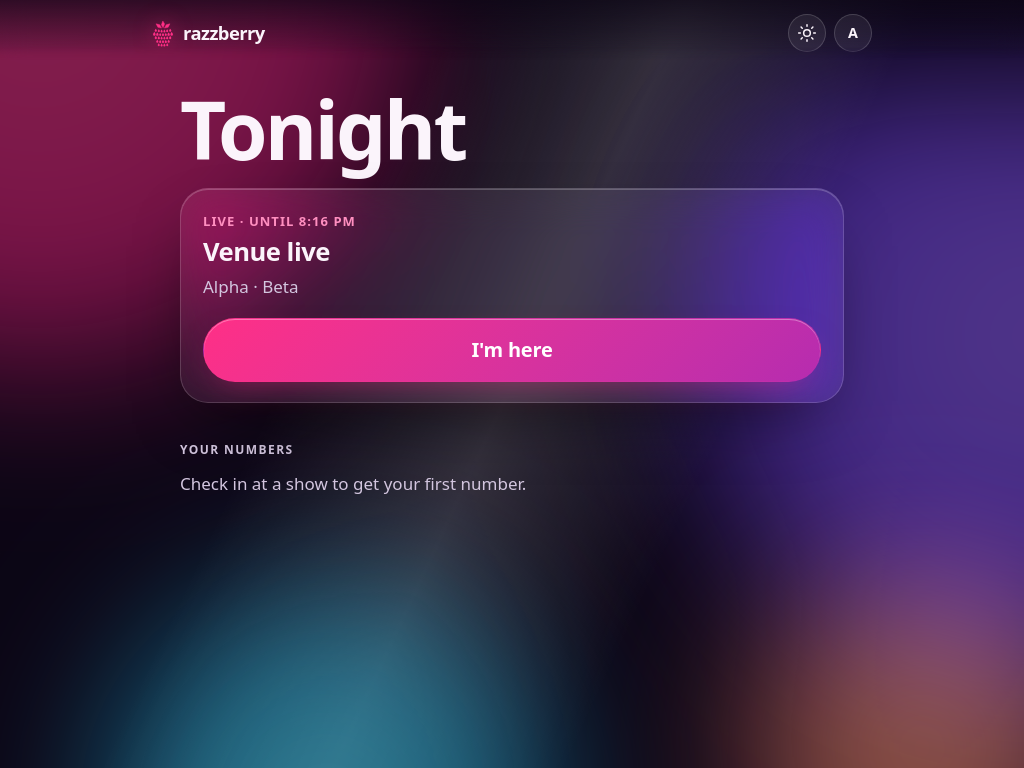
Test: check-in › shows a friendly line when the server says you're too far
Click the button "I'm here" at (512, 350), box [203,318,821,382]
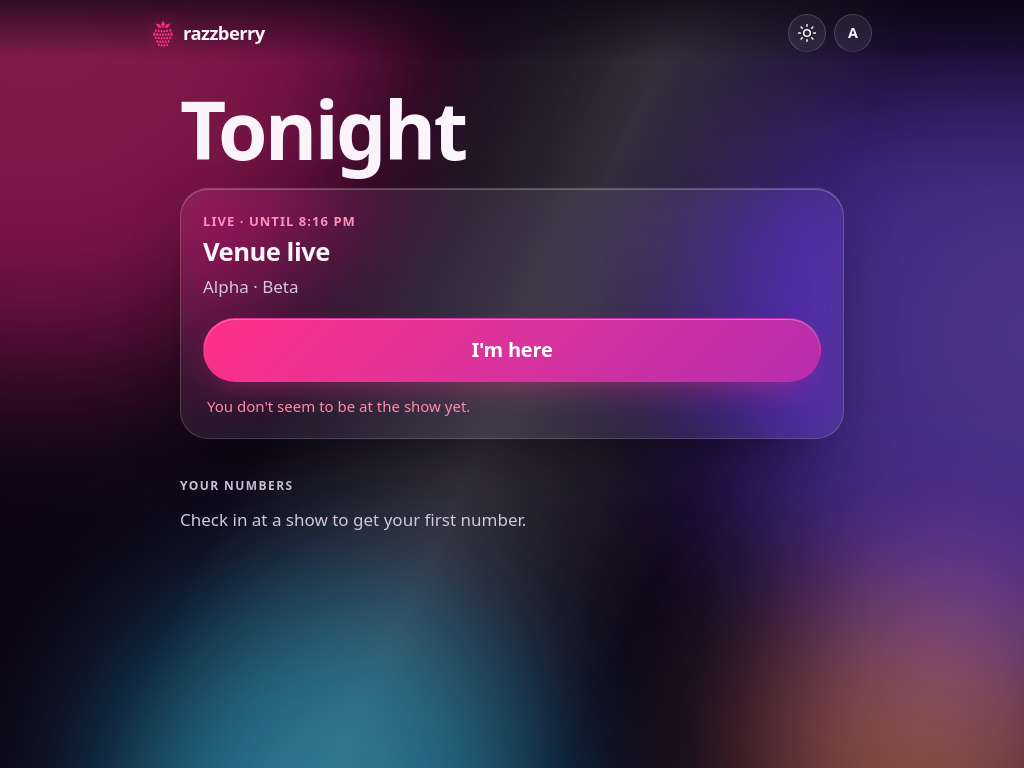
Expected: the message reads "You don't seem to be at the show yet.", [207,396,470,416]
